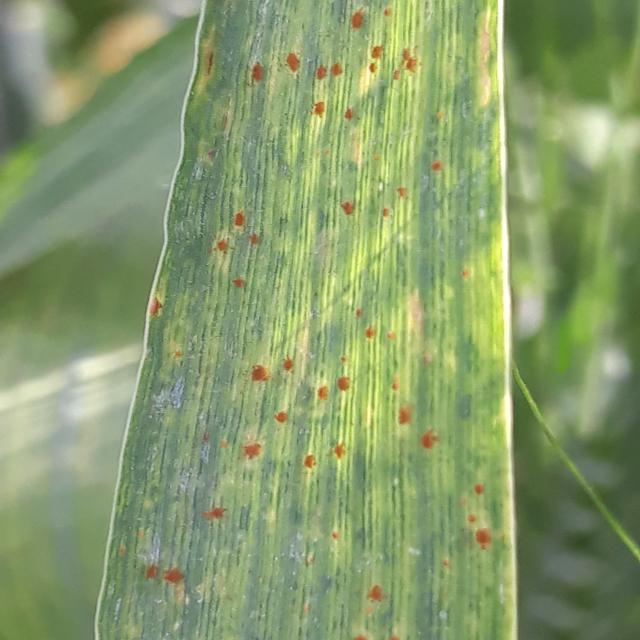orang_rust: (83, 1, 533, 640)
